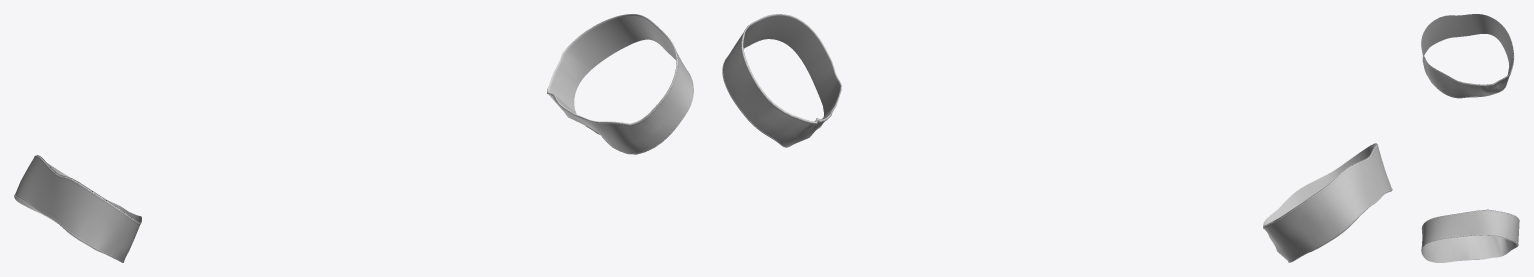
File: Jac_COP_Hands_FULL.glb
3 renders of one model, left to right at view 1: azimuth 30°, elevation 25°; view 2: azimuth 150°, elevation 25°; view 3: azimuth 270°, elevation 25°, orthographic. The views are drawn at different scales.
Parts seen in each view (by area): view 1: Jac_COP_Hands_FULL1, Rope1; view 2: Jac_COP_Hands_FULL1, Rope1; view 3: Jac_COP_Hands_FULL1, Rope1.
Boxes of the visible parts, left/top/right/bottom form: Jac_COP_Hands_FULL1: left=14, top=14, right=692, bottom=261; Rope1: left=14, top=14, right=693, bottom=262; Jac_COP_Hands_FULL1: left=723, top=14, right=1392, bottom=262; Rope1: left=722, top=14, right=1392, bottom=262; Jac_COP_Hands_FULL1: left=1421, top=14, right=1519, bottom=262; Rope1: left=1421, top=15, right=1519, bottom=262.
Size of the model in its own units: 1.12 by 0.1858 by 0.2309.
Materials: 2 (2 with a texture image).
